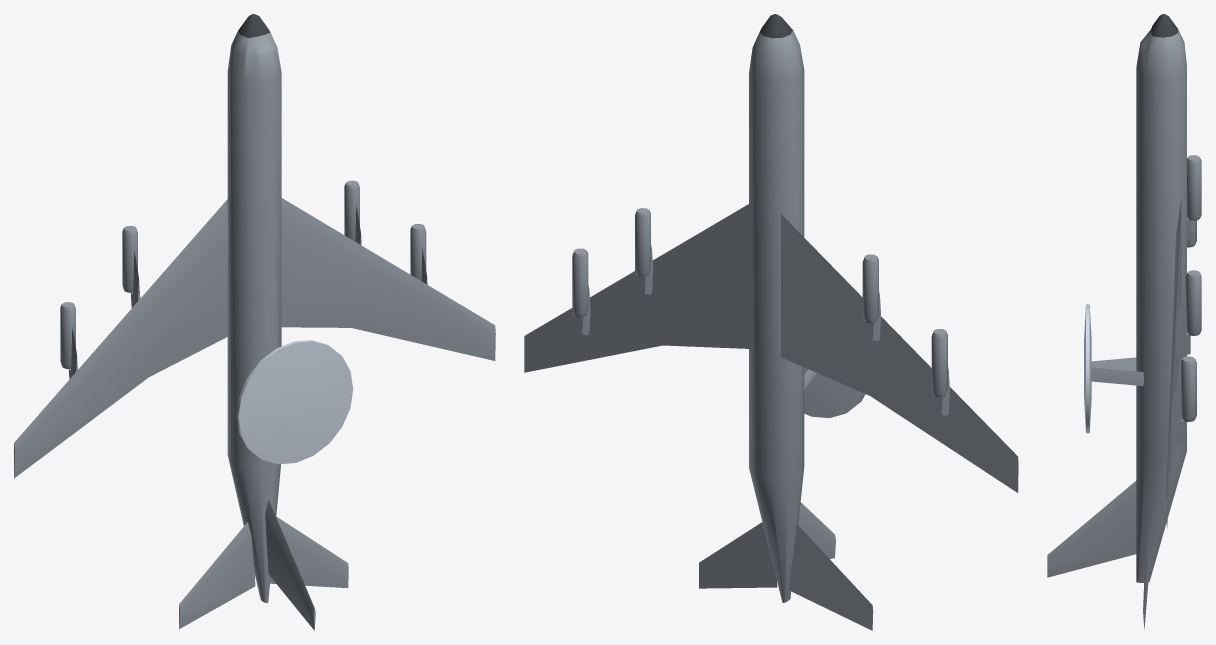
3 views of the same model, side by side, from view 1: azimuth 30°, elevation 25°; view 2: azimuth 150°, elevation 25°; view 3: azimuth 270°, elevation 25° (orthographic). The views are drawn at different scales.
Parts seen in each view (by area): view 1: db_e3a_lv1_LOD child0_body_p13656_Geometry_0.001, db_e3a_lv1_LOD child0_wing1_p13776_Geometry_0.001, db_e3a_lv1_LOD child0_o2593_p13999_Geometry_0.001, db_e3a_lv1_LOD child0_dome_p13690_Geometry_0.001, db_e3a_lv1_LOD child0_stab1_p13646_Geometry_0.001, db_e3a_lv1_LOD child0_rudder_pl1_Geometry_0.001, db_e3a_lv1_LOD child0_stab2_p13642_Geometry_0.001, db_e3a_lv1_LOD child0_eng3_p13740_Geometry_0.001, db_e3a_lv1_LOD child0_eng4_p13748_Geometry_0.001, db_e3a_lv1_LOD child0_eng2_p13819_Geometry_0.001, db_e3a_lv1_LOD child0_eng1_p13827_Geometry_0.001; view 2: db_e3a_lv1_LOD child0_body_p13656_Geometry_0.001, db_e3a_lv1_LOD child0_wing1_p13776_Geometry_0.001, db_e3a_lv1_LOD child0_o2593_p13999_Geometry_0.001, db_e3a_lv1_LOD child0_stab1_p13646_Geometry_0.001, db_e3a_lv1_LOD child0_stab2_p13642_Geometry_0.001, db_e3a_lv1_LOD child0_dome_p13690_Geometry_0.001, db_e3a_lv1_LOD child0_rudder_pl1_Geometry_0.001, db_e3a_lv1_LOD child0_eng3_p13740_Geometry_0.001, db_e3a_lv1_LOD child0_eng1_p13827_Geometry_0.001, db_e3a_lv1_LOD child0_eng4_p13748_Geometry_0.001, db_e3a_lv1_LOD child0_eng2_p13819_Geometry_0.001; view 3: db_e3a_lv1_LOD child0_body_p13656_Geometry_0.001, db_e3a_lv1_LOD child0_rudder_pl1_Geometry_0.001, db_e3a_lv1_LOD child0_o2593_p13999_Geometry_0.001, db_e3a_lv1_LOD child0_pylons_p13680_Geometry_0.001, db_e3a_lv1_LOD child0_dome_p13690_Geometry_0.001, db_e3a_lv1_LOD child0_eng2_p13819_Geometry_0.001, db_e3a_lv1_LOD child0_eng1_p13827_Geometry_0.001, db_e3a_lv1_LOD child0_eng3_p13740_Geometry_0.001, db_e3a_lv1_LOD child0_mount2_p13842_Geometry_0.001, db_e3a_lv1_LOD child0_mount1_p13852_Geometry_0.001, db_e3a_lv1_LOD child0_radome1_p13722_Geometry_0.001, db_e3a_lv1_LOD child0_stab2_p13642_Geometry_0.001 (+1 smaller).
Part boxes in pixels (left/top/right/bottom): db_e3a_lv1_LOD child0_body_p13656_Geometry_0.001: left=227, top=31, right=281, bottom=603; db_e3a_lv1_LOD child0_wing1_p13776_Geometry_0.001: left=14, top=199, right=227, bottom=478; db_e3a_lv1_LOD child0_o2593_p13999_Geometry_0.001: left=281, top=198, right=495, bottom=360; db_e3a_lv1_LOD child0_dome_p13690_Geometry_0.001: left=236, top=340, right=353, bottom=464; db_e3a_lv1_LOD child0_stab1_p13646_Geometry_0.001: left=179, top=522, right=255, bottom=629; db_e3a_lv1_LOD child0_rudder_pl1_Geometry_0.001: left=265, top=499, right=315, bottom=630; db_e3a_lv1_LOD child0_stab2_p13642_Geometry_0.001: left=270, top=516, right=348, bottom=588; db_e3a_lv1_LOD child0_eng3_p13740_Geometry_0.001: left=122, top=232, right=137, bottom=289; db_e3a_lv1_LOD child0_eng4_p13748_Geometry_0.001: left=60, top=308, right=75, bottom=365; db_e3a_lv1_LOD child0_eng2_p13819_Geometry_0.001: left=344, top=187, right=359, bottom=241; db_e3a_lv1_LOD child0_eng1_p13827_Geometry_0.001: left=410, top=230, right=426, bottom=280; db_e3a_lv1_LOD child0_body_p13656_Geometry_0.001: left=749, top=30, right=804, bottom=602; db_e3a_lv1_LOD child0_wing1_p13776_Geometry_0.001: left=781, top=214, right=1018, bottom=492; db_e3a_lv1_LOD child0_o2593_p13999_Geometry_0.001: left=524, top=202, right=751, bottom=372; db_e3a_lv1_LOD child0_stab1_p13646_Geometry_0.001: left=789, top=524, right=873, bottom=630; db_e3a_lv1_LOD child0_stab2_p13642_Geometry_0.001: left=699, top=522, right=777, bottom=588; db_e3a_lv1_LOD child0_dome_p13690_Geometry_0.001: left=804, top=367, right=865, bottom=417; db_e3a_lv1_LOD child0_rudder_pl1_Geometry_0.001: left=798, top=502, right=835, bottom=558; db_e3a_lv1_LOD child0_eng3_p13740_Geometry_0.001: left=862, top=261, right=878, bottom=319; db_e3a_lv1_LOD child0_eng1_p13827_Geometry_0.001: left=572, top=255, right=588, bottom=313; db_e3a_lv1_LOD child0_eng4_p13748_Geometry_0.001: left=931, top=335, right=947, bottom=394; db_e3a_lv1_LOD child0_eng2_p13819_Geometry_0.001: left=635, top=215, right=650, bottom=273; db_e3a_lv1_LOD child0_body_p13656_Geometry_0.001: left=1136, top=29, right=1186, bottom=582; db_e3a_lv1_LOD child0_rudder_pl1_Geometry_0.001: left=1047, top=481, right=1136, bottom=577; db_e3a_lv1_LOD child0_o2593_p13999_Geometry_0.001: left=1165, top=198, right=1181, bottom=528; db_e3a_lv1_LOD child0_pylons_p13680_Geometry_0.001: left=1091, top=357, right=1143, bottom=386; db_e3a_lv1_LOD child0_dome_p13690_Geometry_0.001: left=1084, top=304, right=1091, bottom=433; db_e3a_lv1_LOD child0_eng2_p13819_Geometry_0.001: left=1185, top=277, right=1201, bottom=332; db_e3a_lv1_LOD child0_eng1_p13827_Geometry_0.001: left=1181, top=363, right=1196, bottom=418; db_e3a_lv1_LOD child0_eng3_p13740_Geometry_0.001: left=1187, top=162, right=1201, bottom=217; db_e3a_lv1_LOD child0_mount2_p13842_Geometry_0.001: left=1176, top=292, right=1190, bottom=358; db_e3a_lv1_LOD child0_mount1_p13852_Geometry_0.001: left=1171, top=377, right=1185, bottom=444; db_e3a_lv1_LOD child0_radome1_p13722_Geometry_0.001: left=1151, top=14, right=1177, bottom=37; db_e3a_lv1_LOD child0_stab2_p13642_Geometry_0.001: left=1143, top=512, right=1149, bottom=629.
Bounding box in the file's own units: 39.45 × 46 × 11.2.
